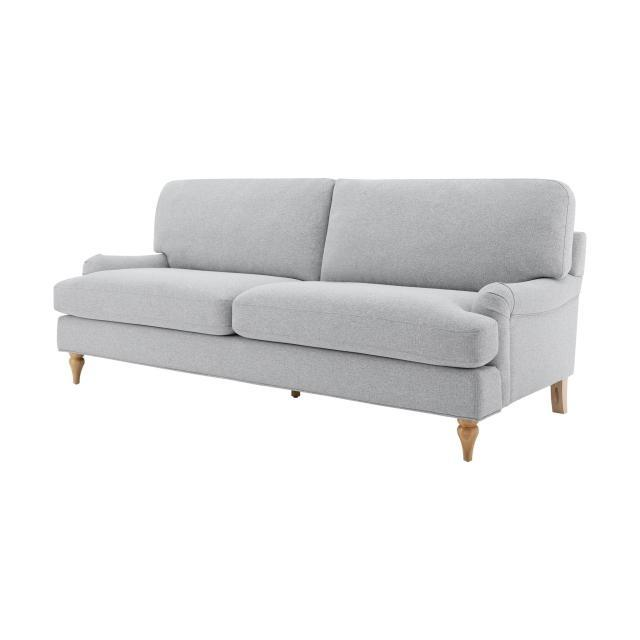sofa: (52, 175, 588, 462)
